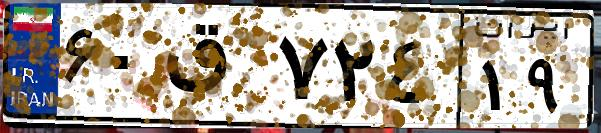0: (110, 28, 158, 98)
1: (475, 38, 525, 113)
2: (330, 28, 385, 110)
4: (385, 28, 445, 110)
6: (57, 26, 110, 100)
7: (270, 28, 330, 110)
9: (525, 38, 570, 115)
ق: (158, 20, 270, 120)
